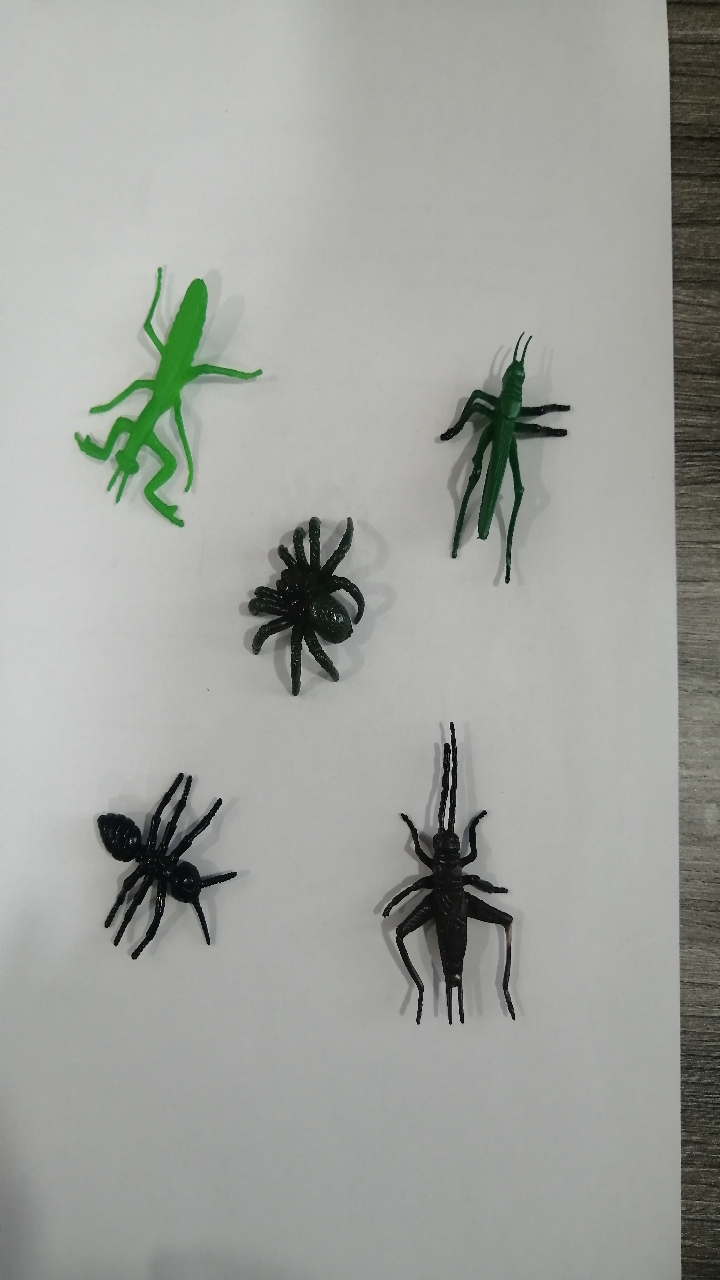intruso: (331, 717, 560, 1054), (43, 229, 260, 555), (394, 302, 604, 614), (64, 735, 289, 983), (221, 488, 383, 711)
